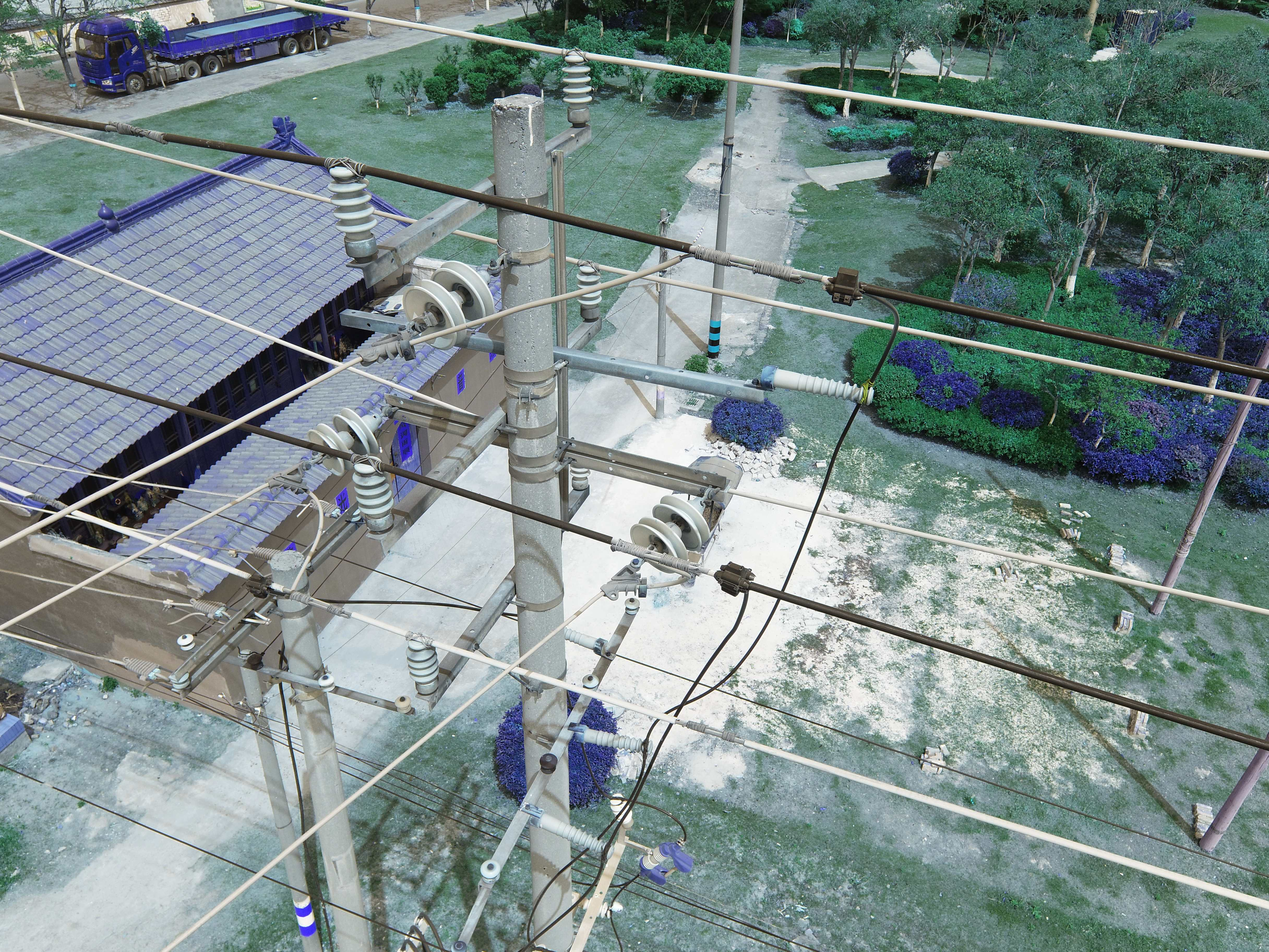severe_soiling_no_discharge_whole: (450, 941, 468, 951)
